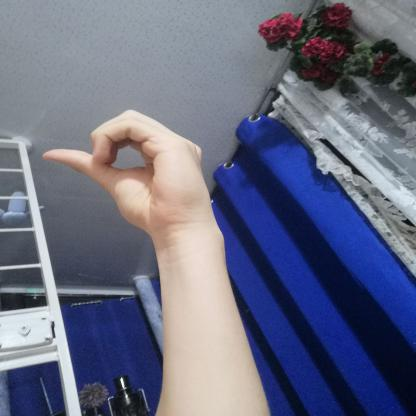WAW: (26, 98, 231, 244)
